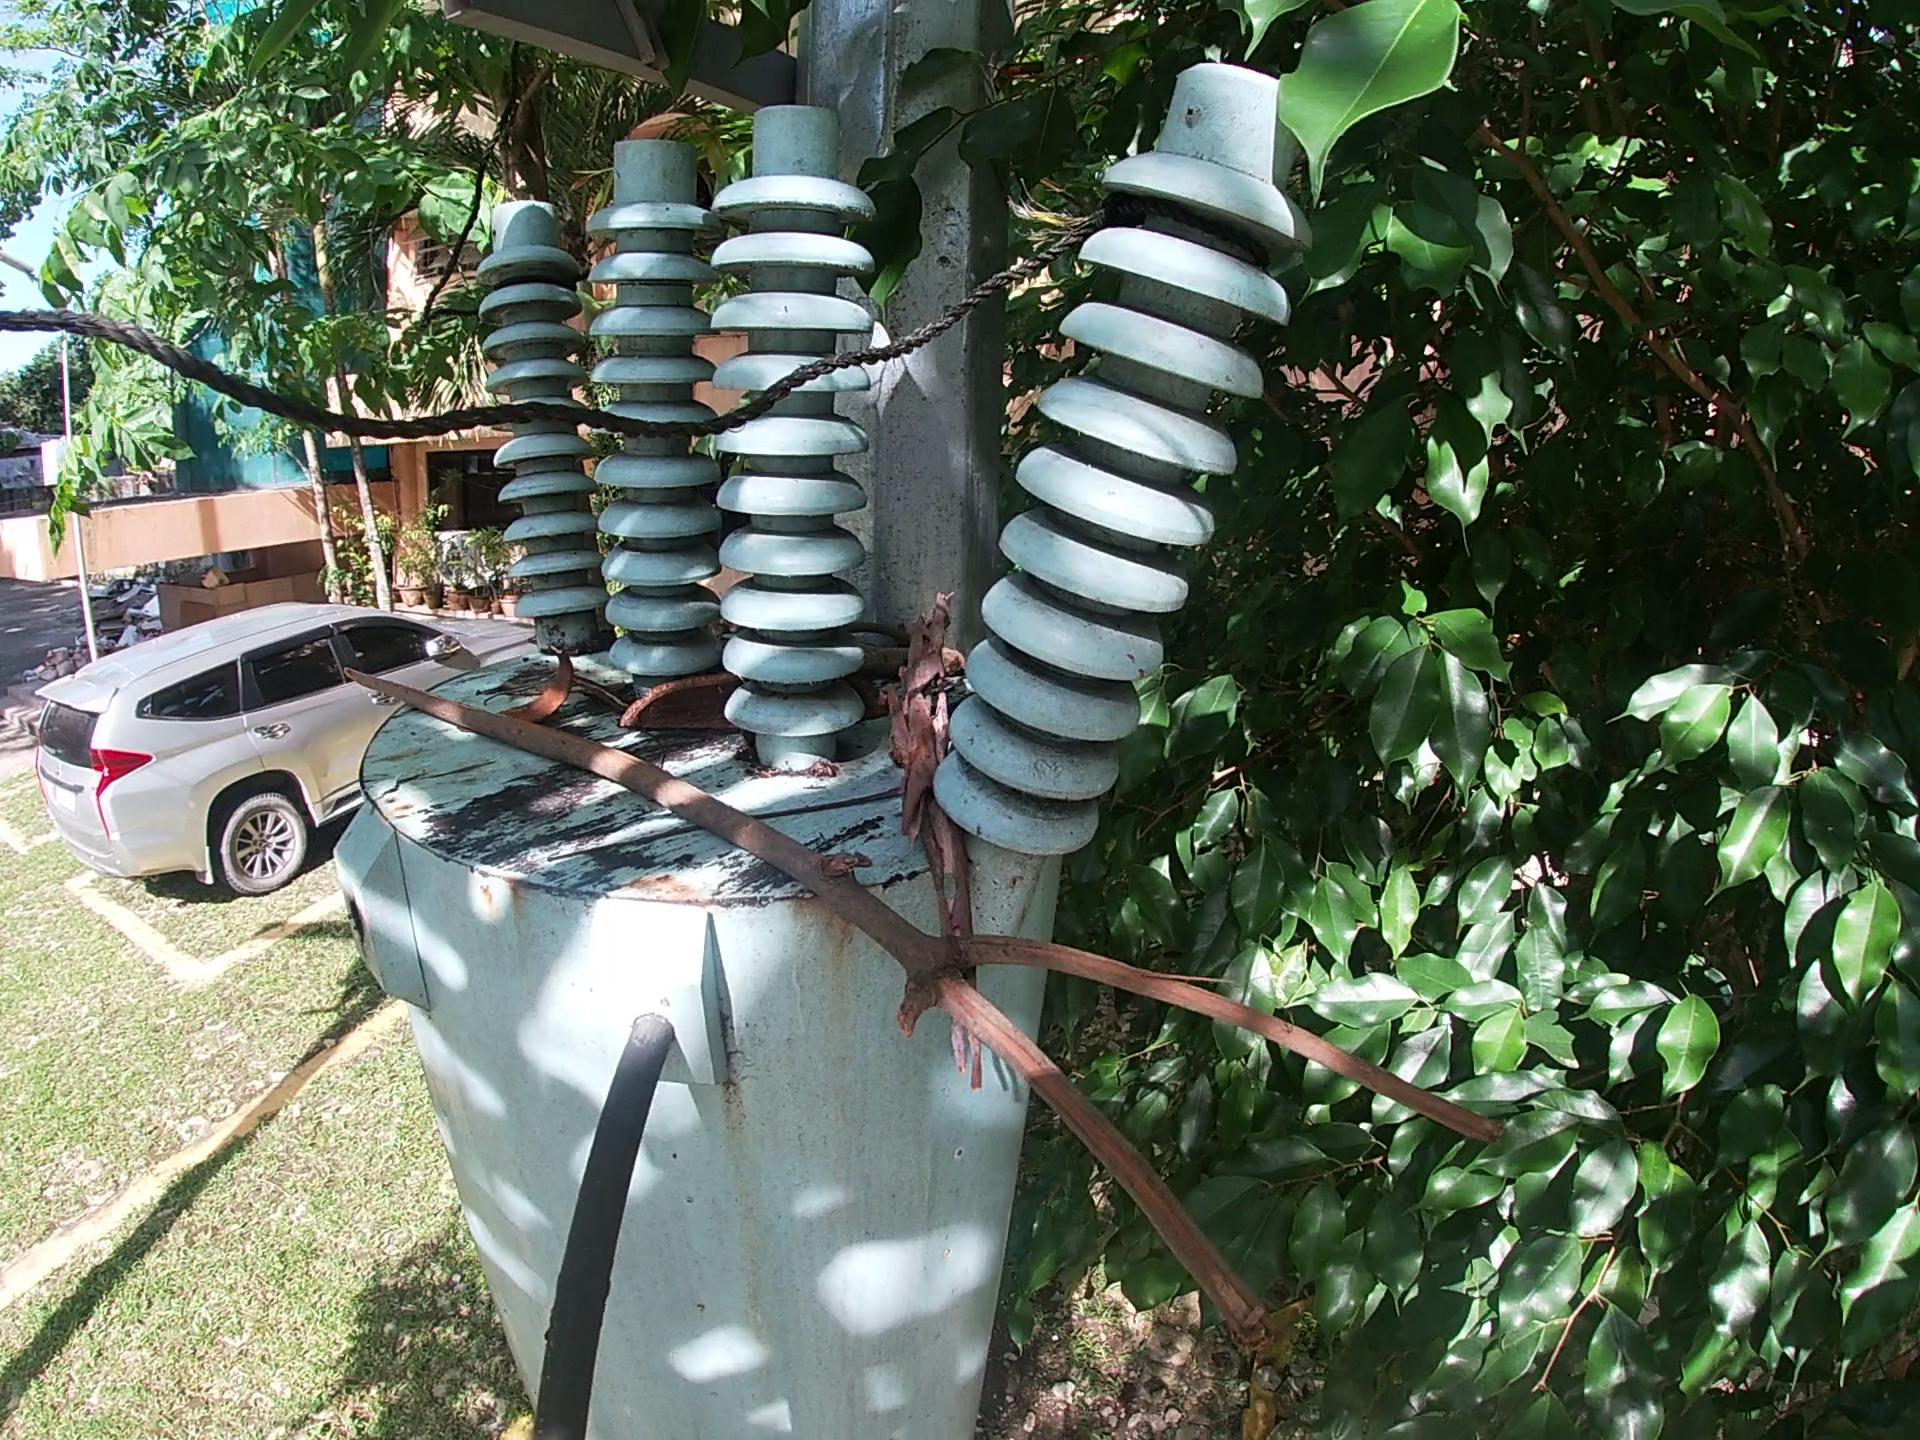mahogany fruit: (615, 681, 736, 753), (537, 638, 587, 715)
tree branch: (328, 659, 1541, 1351), (900, 579, 1001, 1103), (759, 784, 903, 815), (859, 653, 972, 688), (576, 666, 638, 711), (856, 613, 930, 634)
